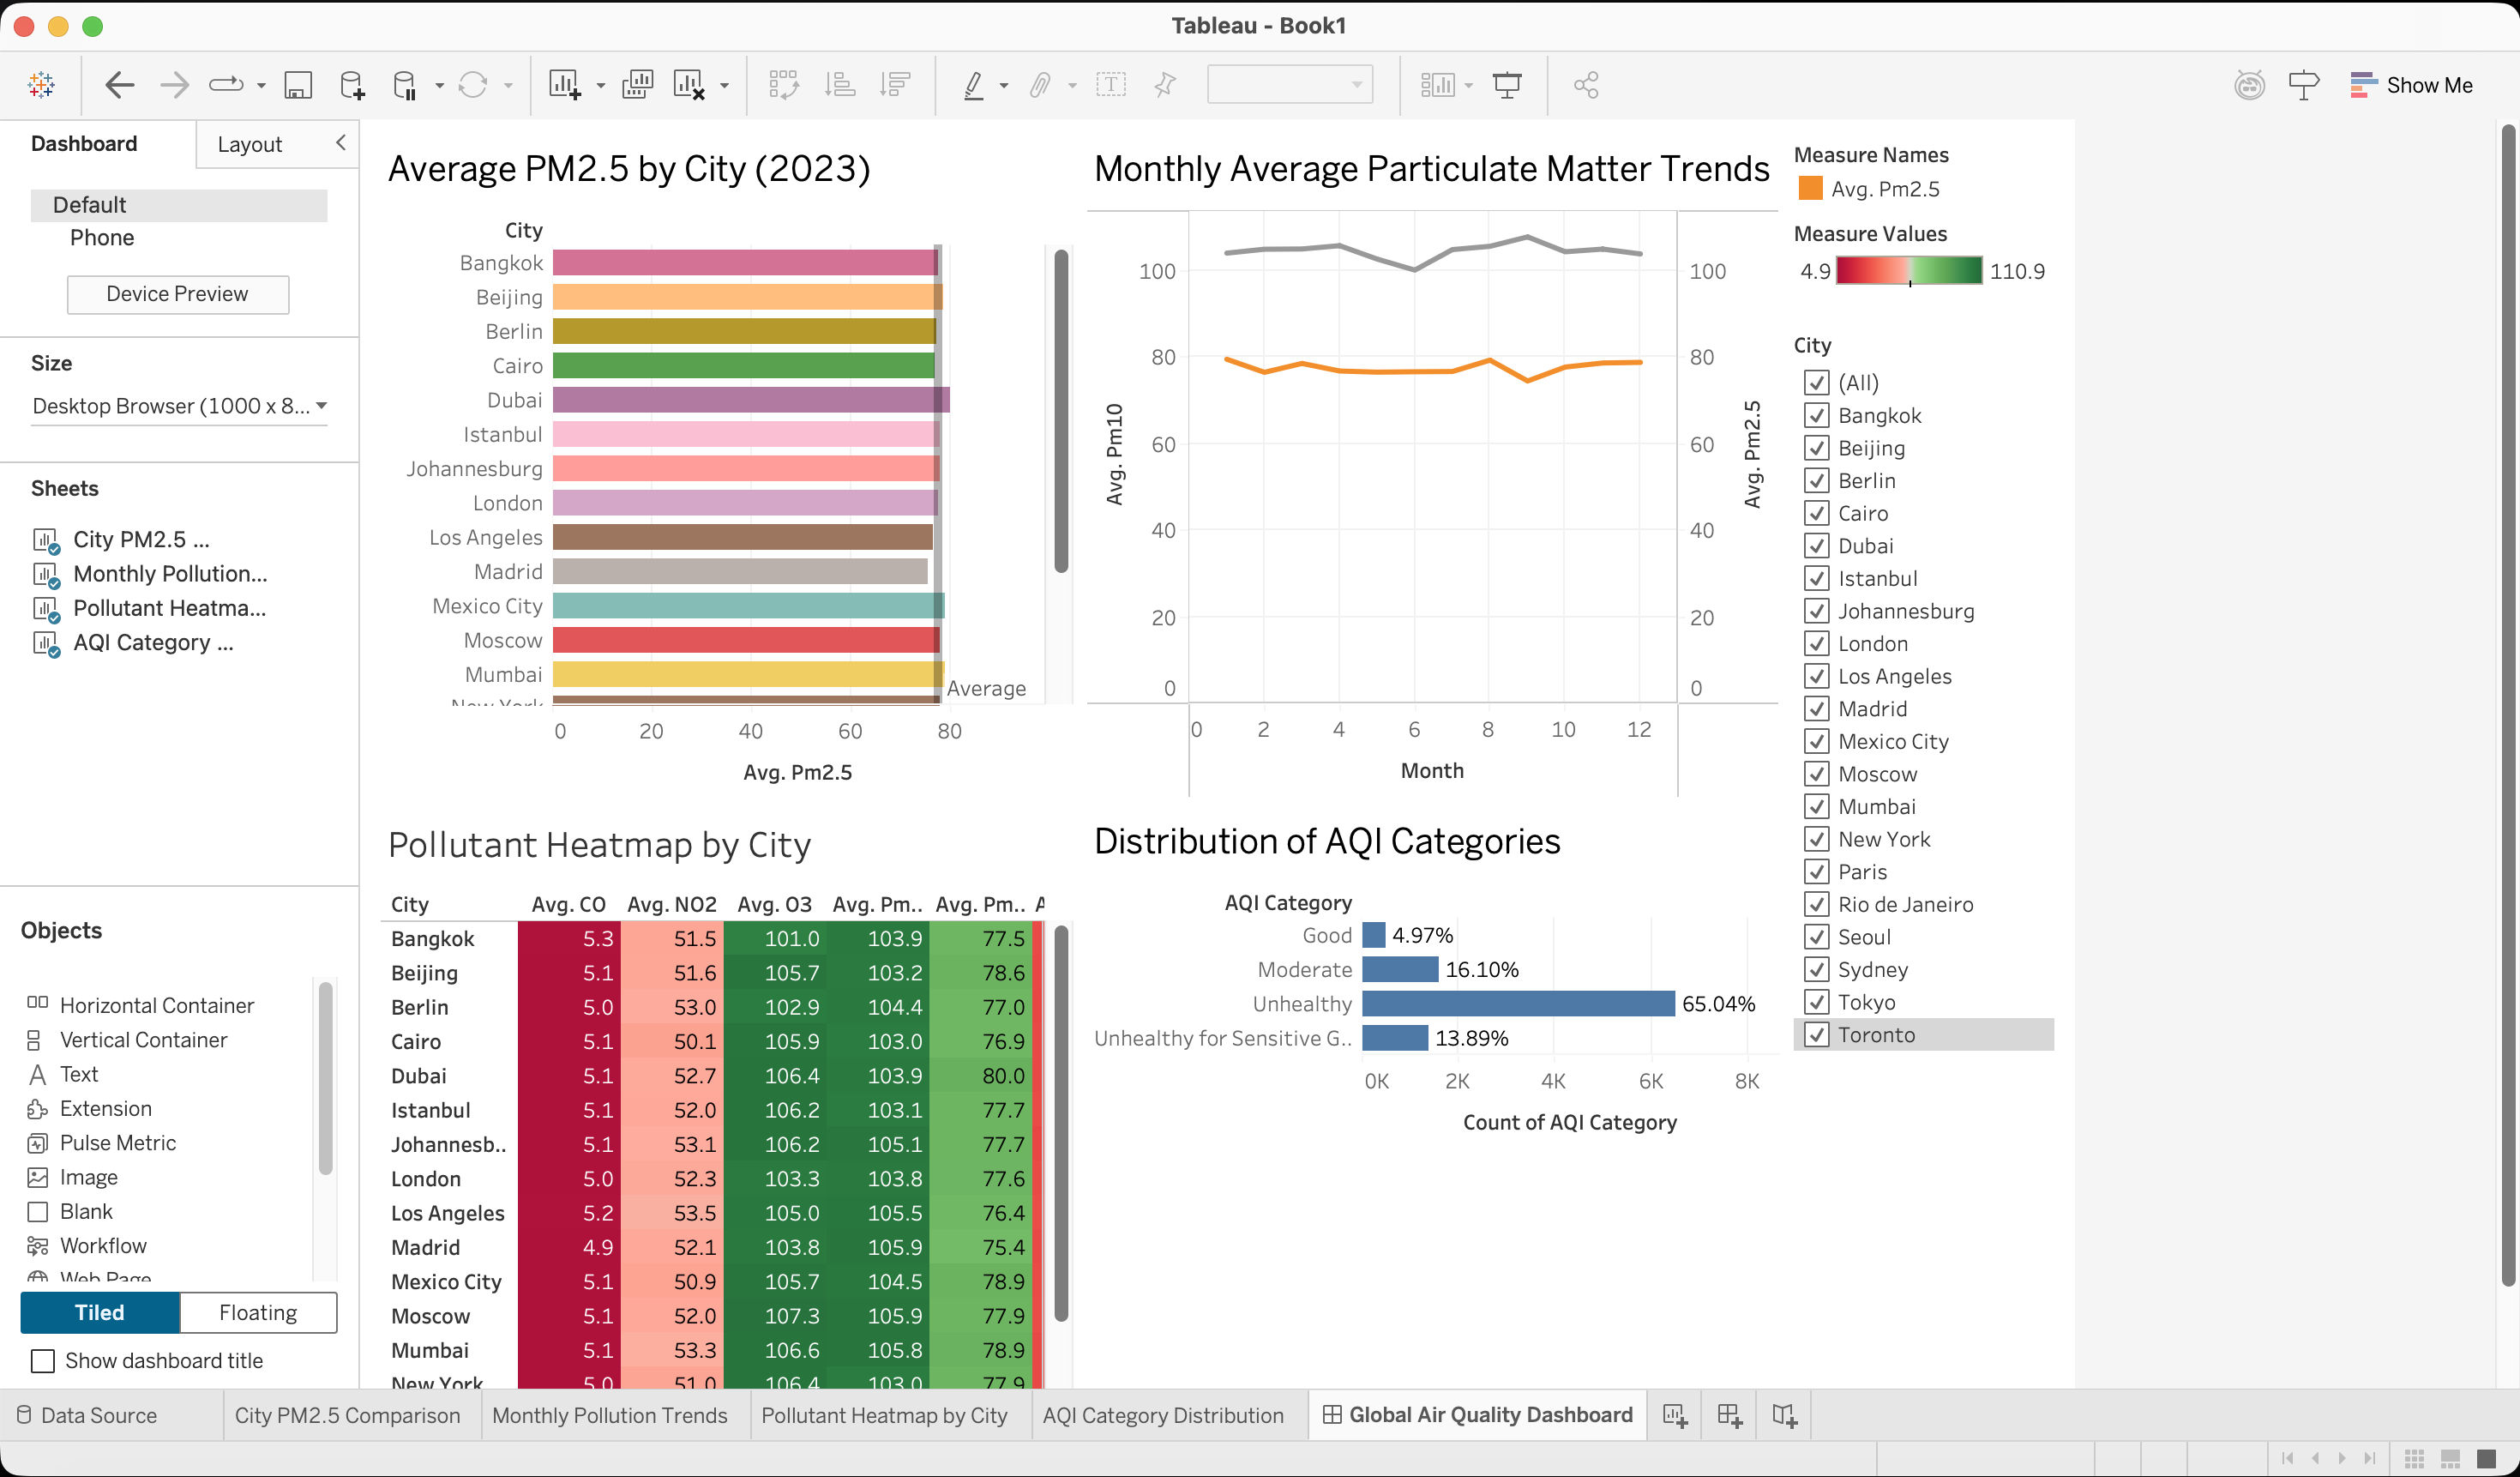

The page's visual inventory and layout, read from the dashboard file:
{"tool":"tableau","page":{"name":"Global Air Quality Dashboard","canvas":[1000,800],"ordinal":0},"visuals":[{"type":"worksheet","title":"City PM2.5 Comparison","mark":"Automatic","rows":["City"],"cols":["PM2.5"],"box":[8,8,412,392]},{"type":"worksheet","title":"Monthly Pollution Trends","mark":"Automatic","rows":["PM10","PM2.5"],"cols":["Month"],"box":[420,8,412,392]},{"type":"legend","title":"Monthly Pollution Trends","param":"[federated.13wuv021y78hsu1h6tfph1sgtxsk].[:Measure Names]","box":[832,8,160,46]},{"type":"legend","title":"Pollutant Heatmap by City","param":"[federated.13wuv021y78hsu1h6tfph1sgtxsk].[Multiple Values]","box":[832,54,160,65]},{"type":"filter","title":"City PM2.5 Comparison","param":"[federated.13wuv021y78hsu1h6tfph1sgtxsk].[none:City:nk]","box":[832,119,160,431]},{"type":"worksheet","title":"Pollutant Heatmap by City","mark":"Square","rows":["City"],"box":[8,400,412,392]},{"type":"worksheet","title":"AQI Category Distribution","mark":"Automatic","rows":["AQI_Category"],"cols":["AQI_Category"],"box":[420,400,412,392]}]}

Visuals, with their boxes on the page's 1000x800 design canvas (x1, y1, x2, y2). These are canvas units, not pixel positions in the 2520x1477 screenshot, which may show the page scaled, cropped or inside an application window:
"City PM2.5 Comparison" worksheet: (8,8,420,400)
"Monthly Pollution Trends" worksheet: (420,8,832,400)
"Monthly Pollution Trends" legend: (832,8,992,54)
"Pollutant Heatmap by City" legend: (832,54,992,119)
"City PM2.5 Comparison" filter: (832,119,992,550)
"Pollutant Heatmap by City" worksheet (Square marks): (8,400,420,792)
"AQI Category Distribution" worksheet: (420,400,832,792)
